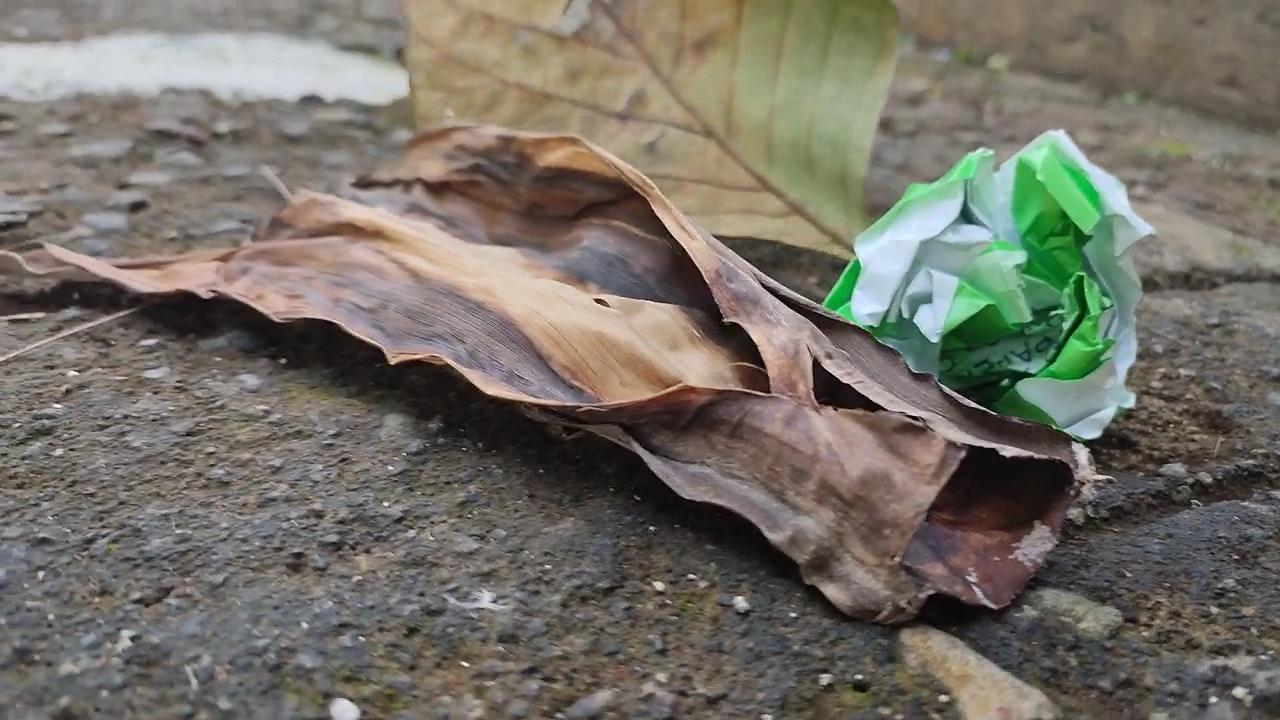Paper: (809, 110, 1170, 461)
